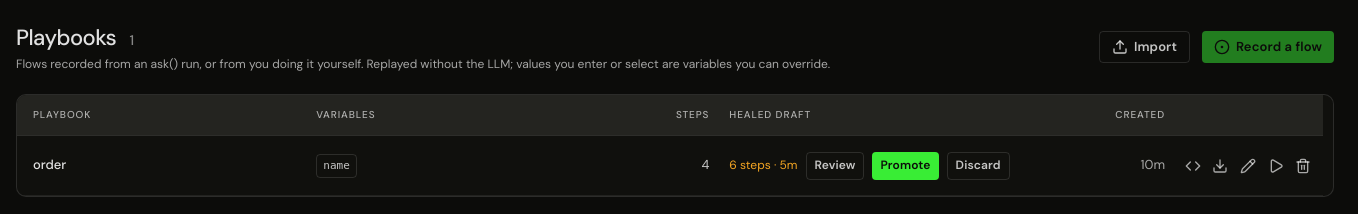
Scenario: PlaybooksTab › promotes a healed draft
Click the button "Promote".
click(906, 166)  # box [872,152,939,180]
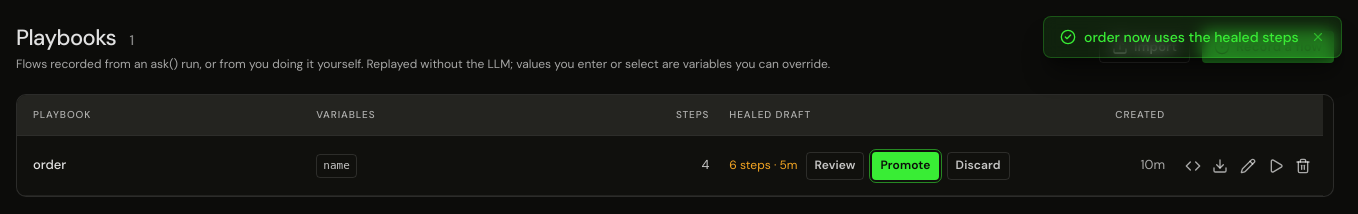
Now the text "order now uses the healed steps" is shown, box [1084,27,1299,47]
